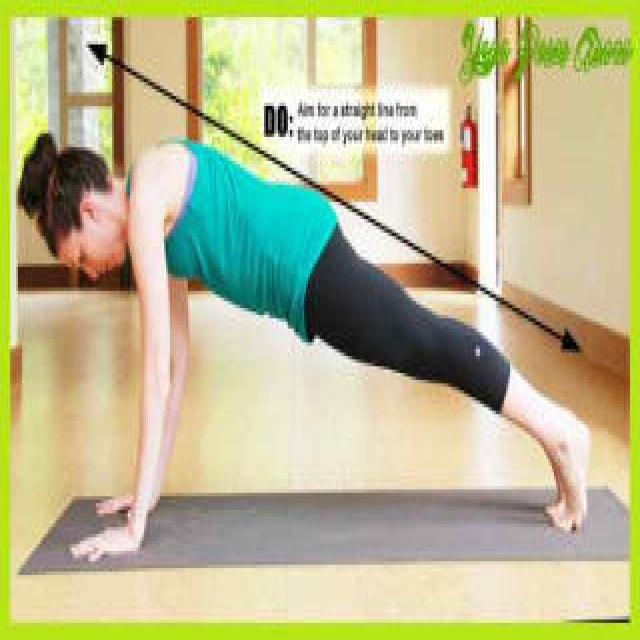yoga-pose plank: (22, 129, 596, 544)
